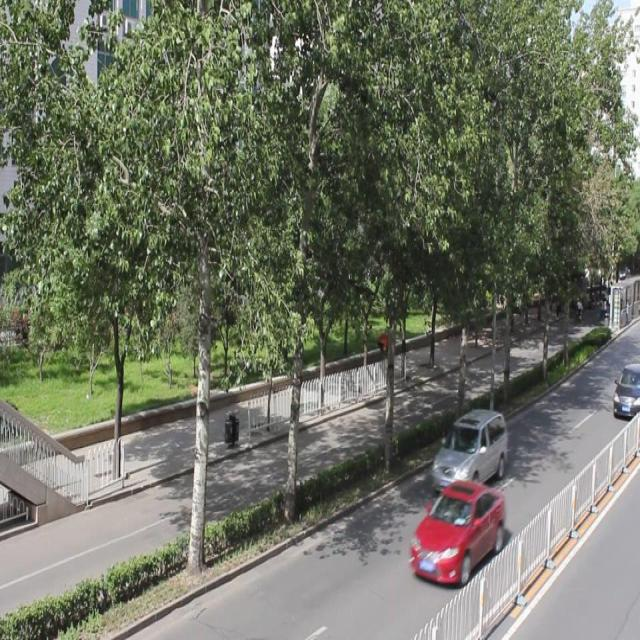car: (418, 479, 501, 596), (437, 397, 506, 491), (610, 356, 640, 442)
